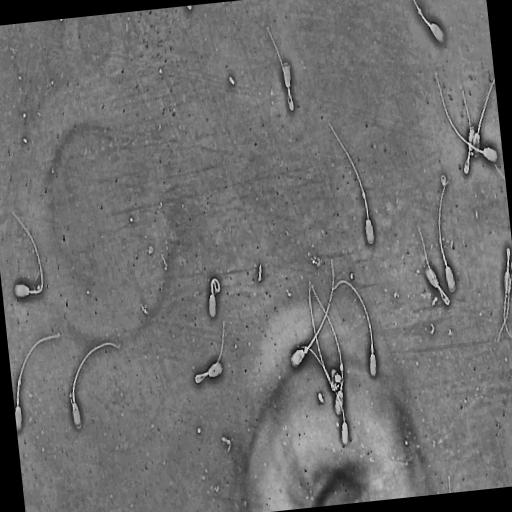coiled-tail: (438, 176, 447, 267), (210, 278, 220, 295)
distal-droplet: (418, 8, 422, 15), (340, 362, 343, 371), (362, 191, 365, 198), (18, 378, 21, 385)
folded-tail: (309, 281, 333, 389), (419, 228, 450, 306), (267, 28, 294, 110), (195, 321, 224, 383), (503, 248, 511, 336), (463, 91, 472, 154), (464, 154, 470, 174), (196, 374, 208, 382), (289, 93, 293, 109)
loose-tail: (496, 269, 512, 344)
normal: (325, 115, 376, 246), (434, 69, 499, 165), (295, 343, 349, 448), (289, 254, 335, 370), (329, 277, 378, 381), (310, 282, 346, 419), (14, 330, 60, 436), (68, 340, 120, 430), (308, 278, 339, 394), (9, 207, 46, 302), (416, 221, 452, 310), (263, 21, 296, 115), (437, 170, 457, 295), (193, 315, 227, 387), (472, 75, 495, 158), (411, 0, 447, 47), (461, 85, 477, 176), (502, 244, 512, 338), (207, 274, 221, 322)
proximal-droplet: (304, 347, 308, 354), (371, 346, 373, 354)
